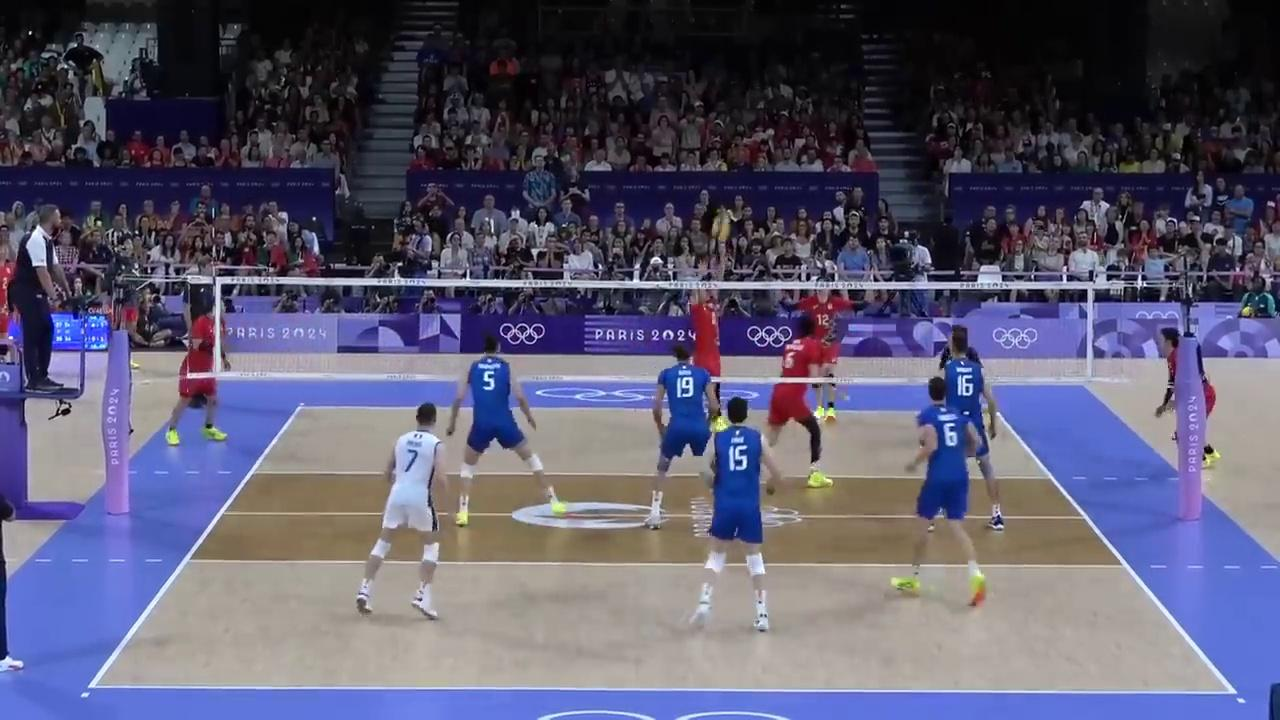ball: (713, 214, 728, 240)
